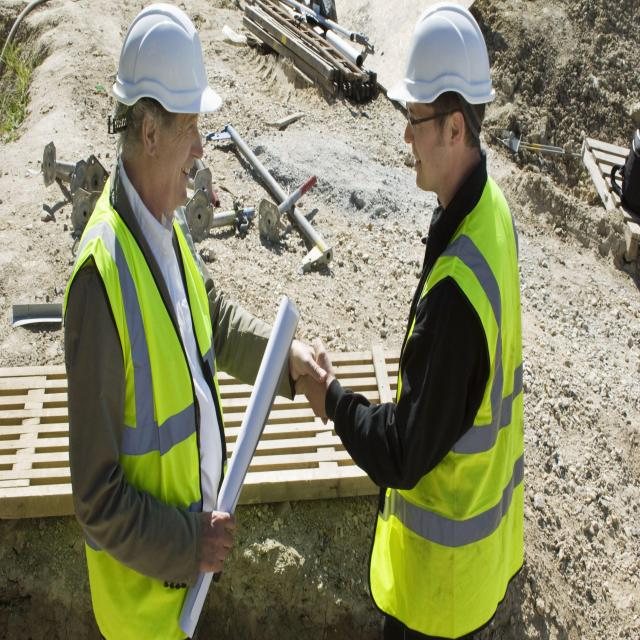Reflective-Jacket: (367, 190, 525, 640), (70, 194, 224, 640)
Safety-Helmet: (109, 2, 222, 121), (386, 1, 497, 119)
